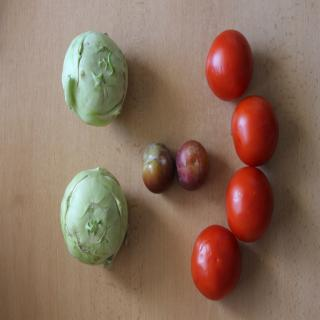tomato: (191, 224, 244, 302), (203, 26, 253, 103), (226, 167, 274, 241), (230, 98, 278, 167)
